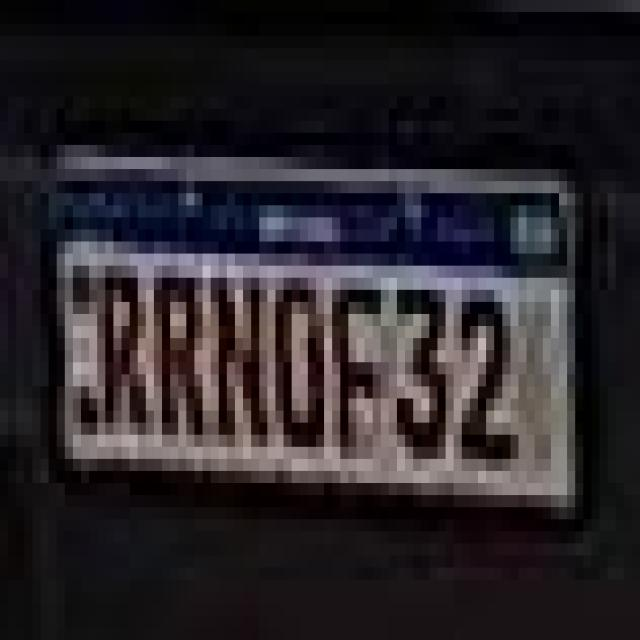0: (267, 274, 327, 456)
3: (392, 281, 452, 469)
F: (329, 276, 392, 464)
N: (209, 269, 268, 454)
R: (150, 266, 212, 447), (97, 259, 152, 439)
